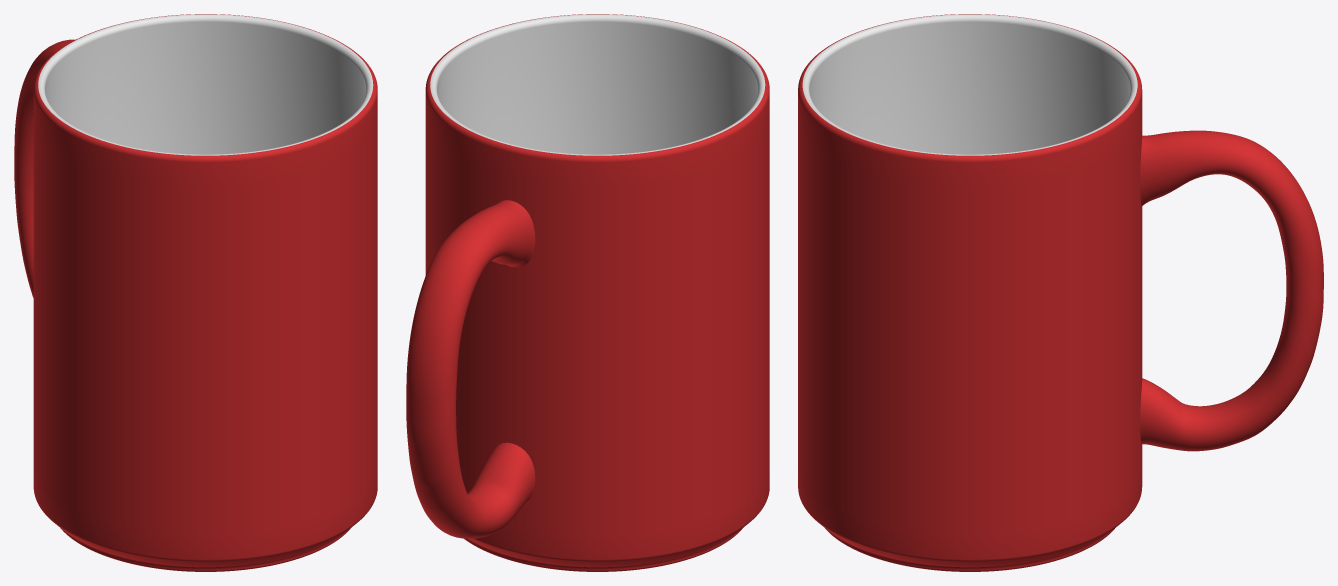
The model's file is mug.glb.
3 views of the same model, side by side, from view 1: azimuth 30°, elevation 25°; view 2: azimuth 150°, elevation 25°; view 3: azimuth 270°, elevation 25° (orthographic).
Visible parts, largest first — view 1: Printable, Mug, Handle; view 2: Printable, Mug, Handle; view 3: Printable, Mug, Handle.
Boxes of the visible parts, x1,y1,x2,y2 form: Printable: (33,118,377,534); Mug: (33,14,377,571); Handle: (14,39,74,297); Printable: (425,118,769,534); Mug: (425,14,769,571); Handle: (406,200,535,538); Printable: (798,117,1134,534); Mug: (798,14,1142,571); Handle: (1140,130,1323,451).
Bounding box in the file's own units: 0.3118 × 0.4226 × 0.4764.
